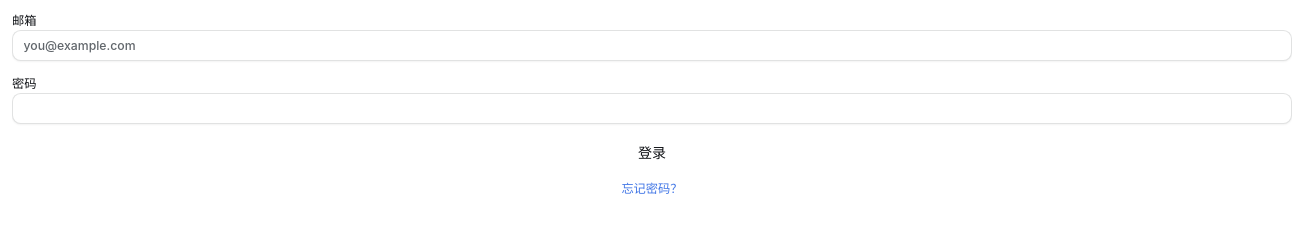
Test: LoginForm › 登录失败显示安全错误且不跳转
In the field labelled "邮箱": (652, 45) x1=12 y1=30 x2=1292 y2=61, type "user@example.test"
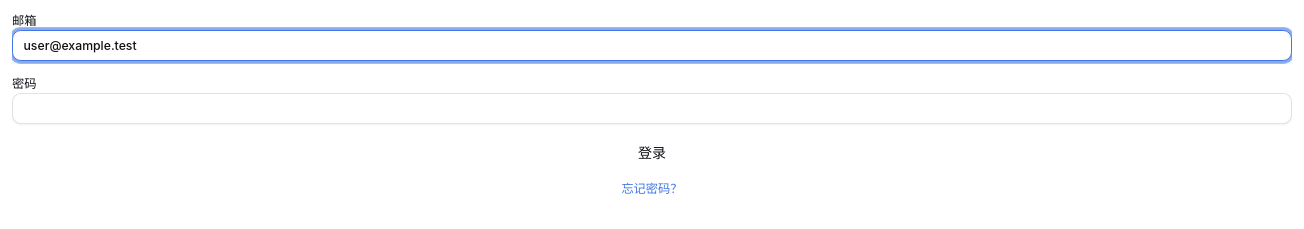
In the password field labelled "密码": (652, 108) x1=12 y1=92 x2=1292 y2=124, type "wrong-password"
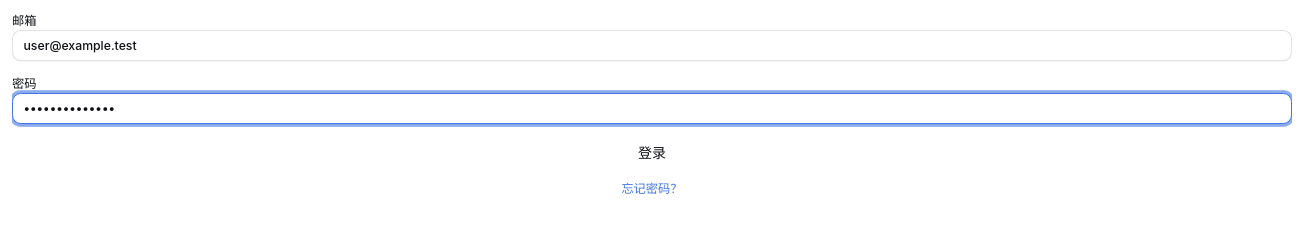
Click the button "登录": click(652, 152) x1=12 y1=138 x2=1292 y2=166
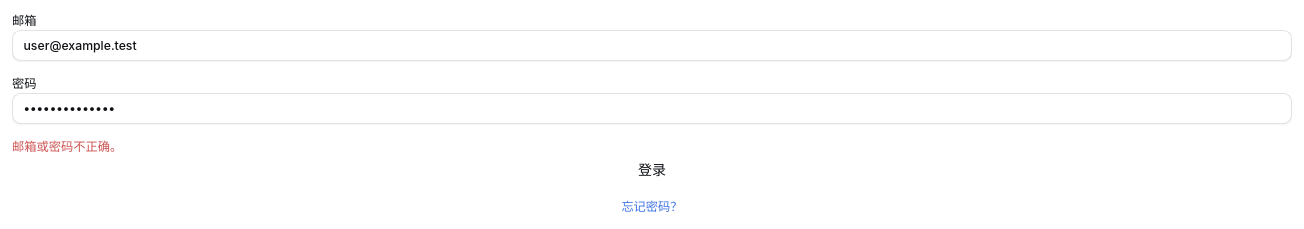
Result: the message shows "邮箱或密码不正确" at x1=12 y1=139 x2=122 y2=154
